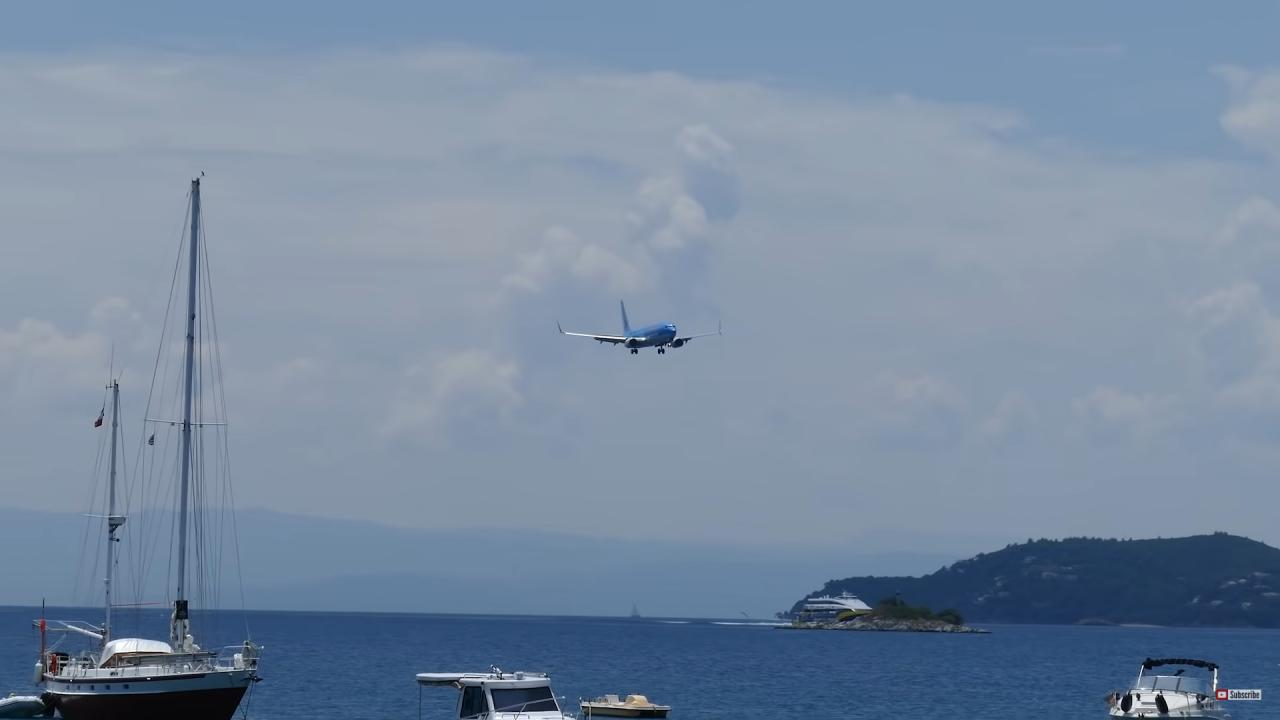Airplane: (542, 288, 746, 367)
